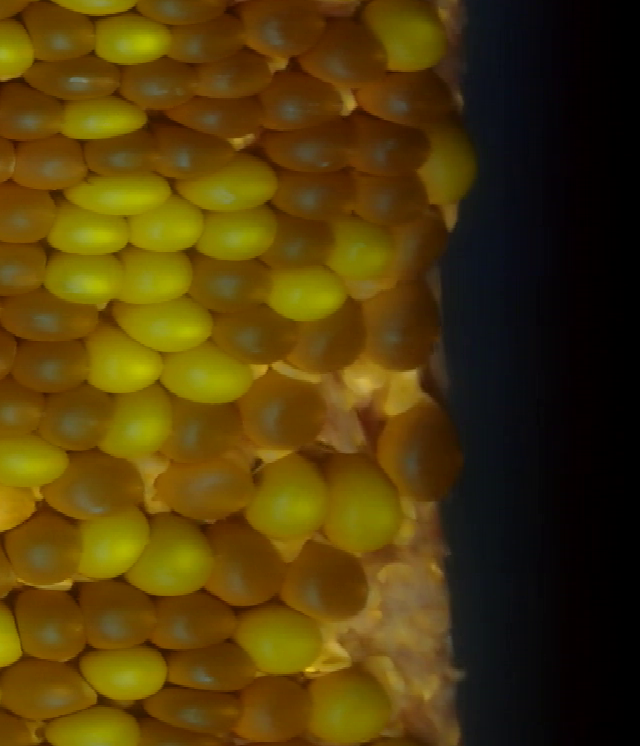fluorescent: (325, 448, 402, 562), (244, 453, 330, 540), (172, 152, 290, 213), (134, 509, 210, 600), (301, 670, 392, 740), (67, 504, 150, 580), (231, 603, 325, 670), (360, 4, 450, 73), (157, 343, 254, 407), (94, 389, 176, 463), (79, 643, 174, 705), (84, 324, 166, 395), (112, 297, 221, 350), (57, 167, 176, 214), (265, 260, 351, 324), (417, 119, 477, 210), (115, 247, 199, 308), (87, 10, 174, 68), (195, 202, 279, 262), (37, 249, 127, 305), (57, 89, 147, 140), (46, 205, 131, 258), (126, 200, 206, 255), (327, 218, 397, 278), (0, 430, 70, 488), (44, 707, 145, 746), (0, 17, 35, 81)
nonfluorescent: (383, 400, 470, 504), (204, 517, 291, 611), (368, 284, 447, 372), (350, 65, 456, 130), (283, 541, 370, 620), (0, 510, 87, 587), (0, 658, 103, 722), (48, 457, 150, 521), (246, 375, 334, 448), (177, 248, 276, 311), (143, 684, 250, 742), (78, 581, 161, 655), (13, 588, 87, 668), (157, 461, 260, 517), (348, 110, 433, 177), (206, 304, 296, 367), (164, 398, 248, 465), (263, 117, 354, 178), (238, 677, 318, 746), (258, 70, 348, 131), (290, 300, 367, 371), (147, 125, 231, 187), (1, 292, 100, 344), (13, 332, 90, 398), (313, 20, 391, 85), (151, 595, 240, 651), (271, 164, 354, 224), (40, 390, 114, 457), (267, 205, 336, 274), (161, 92, 264, 138), (20, 4, 98, 64), (4, 135, 86, 191), (23, 57, 127, 101), (350, 175, 433, 230), (247, 5, 328, 60), (0, 78, 67, 144), (118, 58, 201, 110), (83, 131, 166, 182), (164, 645, 254, 692), (166, 15, 247, 64), (0, 180, 60, 245), (396, 207, 447, 281), (194, 47, 268, 97), (0, 378, 56, 444), (0, 240, 54, 295), (0, 707, 42, 746)
